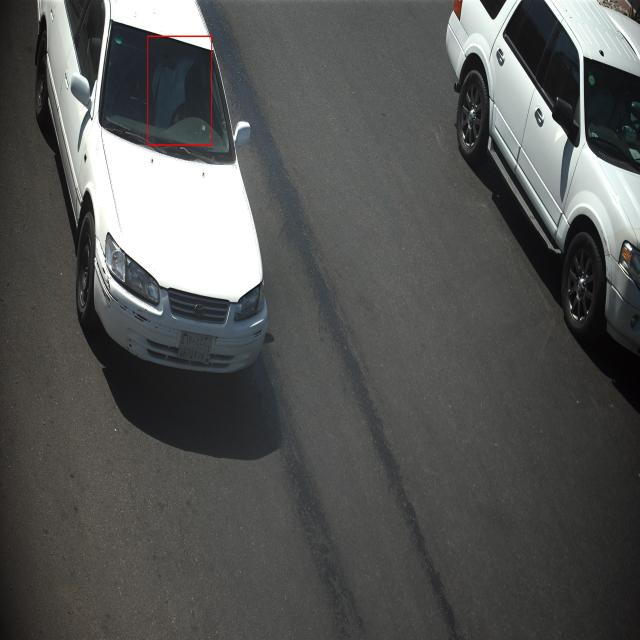windshield: (97, 14, 236, 173), (580, 49, 640, 179)
